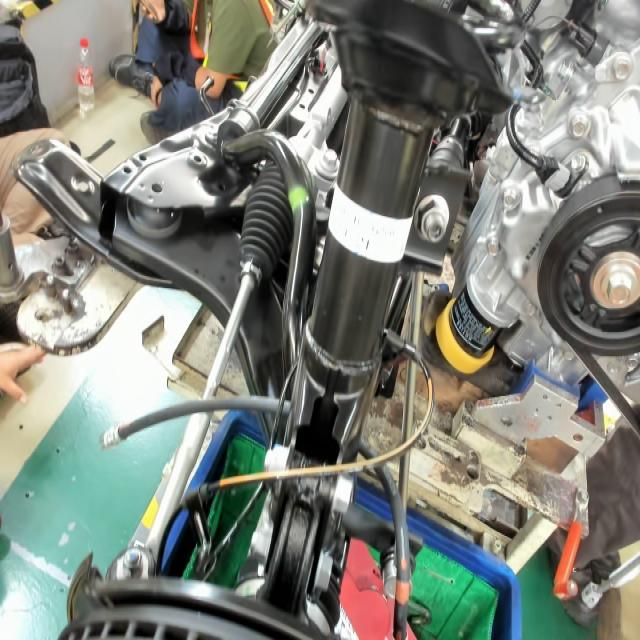Absorber RH-21: (353, 226, 376, 257)
Bar Stabilizer-HJ: (285, 183, 314, 211)
